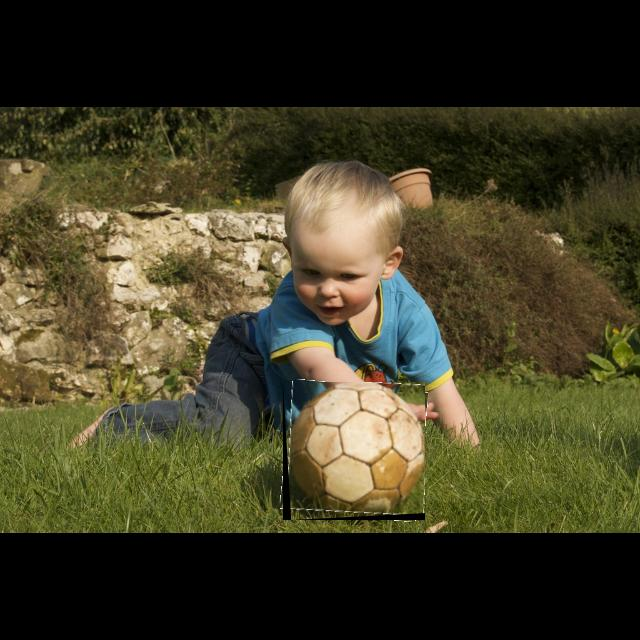Football: (283, 382, 425, 520)
